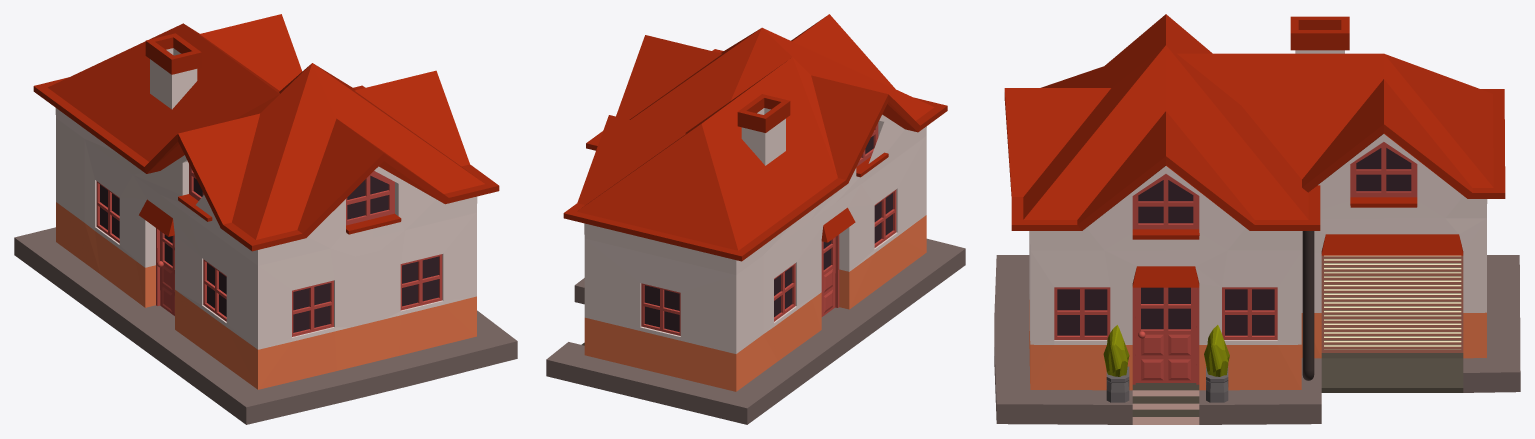
The model's file is PublicBuilding_7.glb.
3 renders of one model, left to right at view 1: azimuth 30°, elevation 25°; view 2: azimuth 150°, elevation 25°; view 3: azimuth 270°, elevation 25°, orthographic. The views are drawn at different scales.
Parts seen in each view (by area): view 1: PublicBuilding_7; view 2: PublicBuilding_7; view 3: PublicBuilding_7.
Part boxes in pixels (left/top/right/bottom): PublicBuilding_7: left=14, top=14, right=517, bottom=424; PublicBuilding_7: left=546, top=14, right=965, bottom=424; PublicBuilding_7: left=994, top=14, right=1520, bottom=424.
Bounding box in the file's own units: 0.0324 × 0.0309 × 0.0479.
1 material, 1 textured.
